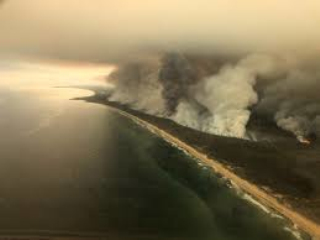smoke: (103, 52, 279, 142), (271, 90, 319, 149)
